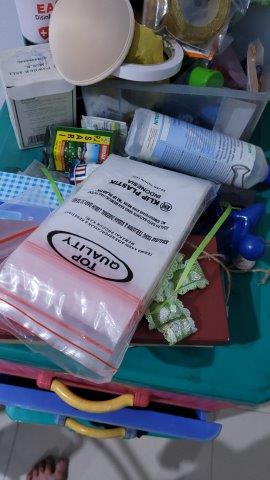plastik: (2, 156, 221, 388), (138, 1, 254, 57)
